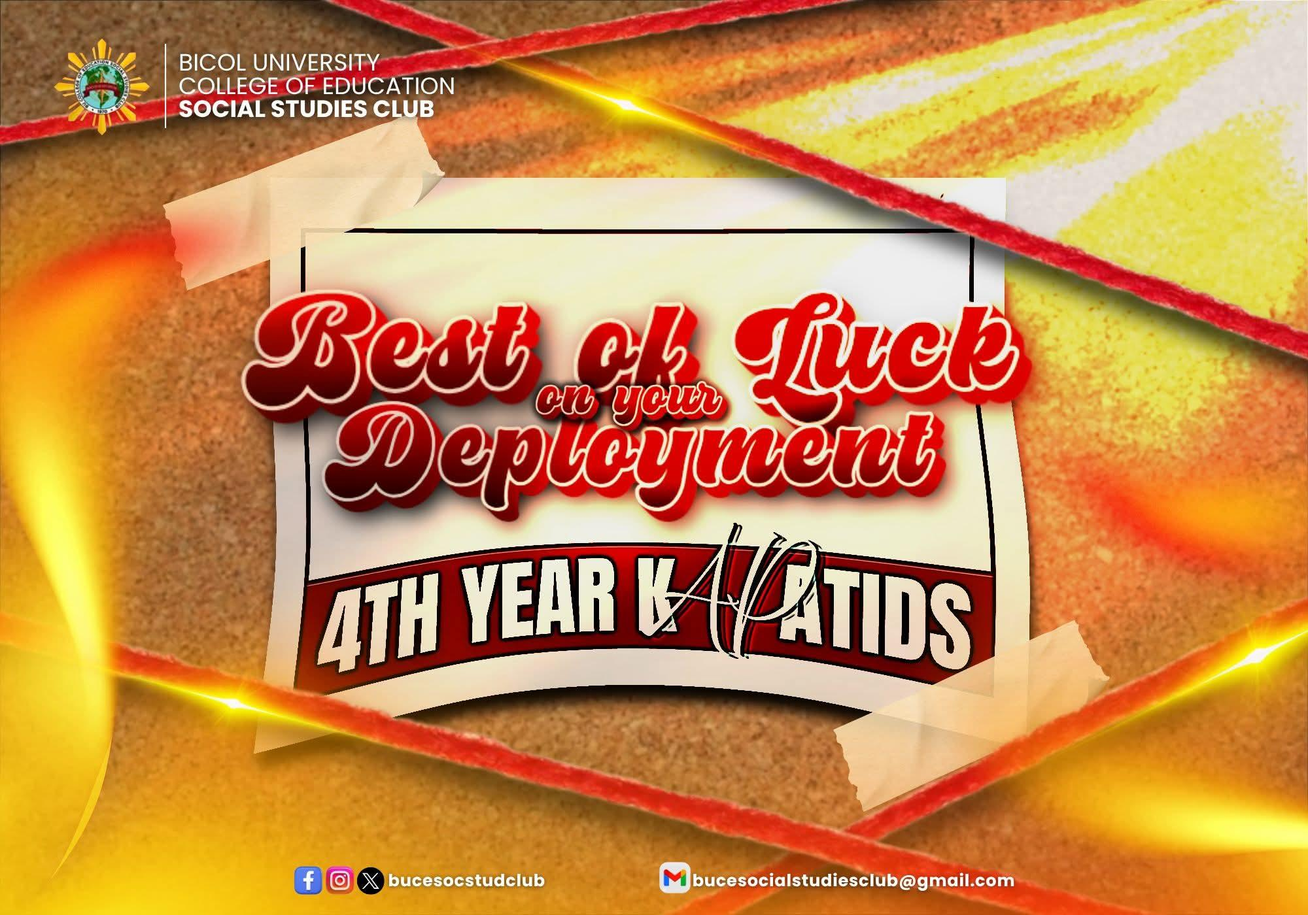embellishment: (657, 859, 693, 896), (323, 863, 358, 897), (291, 863, 324, 897), (357, 864, 388, 895)
logo: (51, 35, 152, 139)
text: (233, 280, 1034, 527), (302, 518, 985, 683), (173, 46, 462, 124), (691, 869, 1019, 895), (384, 870, 549, 890)
underlay: (274, 172, 1003, 736)
